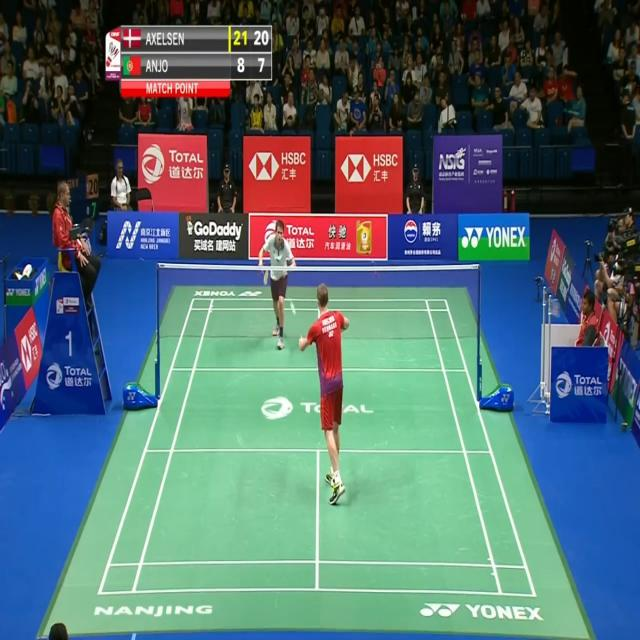Player1: (293, 279, 355, 515)
Player2: (256, 214, 299, 356)
